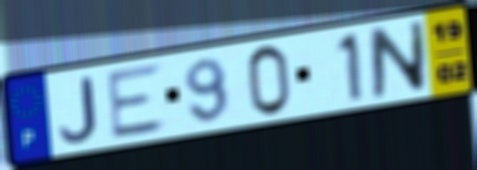0: (245, 42, 292, 119)
1: (333, 30, 366, 105)
9: (181, 55, 233, 125)
E: (104, 60, 170, 142)
J: (57, 74, 100, 144)
N: (366, 18, 429, 102)
